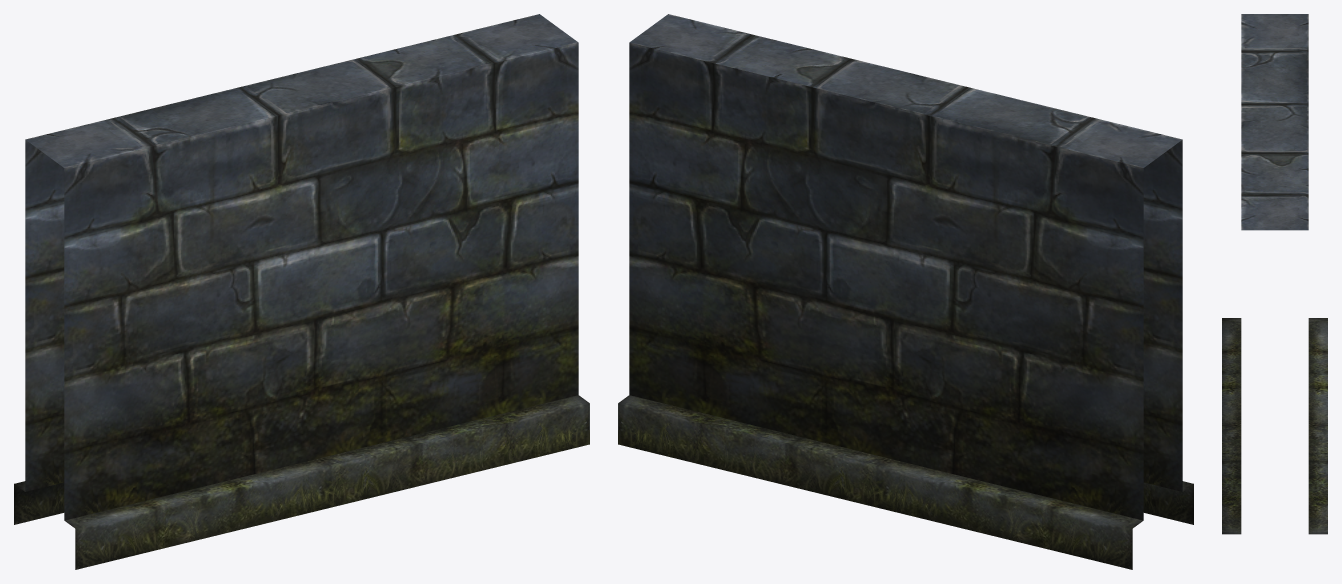
The model's file is C_qiang001.fbx.
The picture shows the model from 3 angles, left to right: view 1: azimuth 30°, elevation 25°; view 2: azimuth 150°, elevation 25°; view 3: azimuth 270°, elevation 25°; orthographic projection. The views are drawn at different scales.
Parts seen in each view (by area): view 1: C_qiang001; view 2: C_qiang001; view 3: C_qiang001.
Boxes of the visible parts, bbox=[...] form: C_qiang001: bbox=[14, 14, 589, 569]; C_qiang001: bbox=[618, 14, 1193, 569]; C_qiang001: bbox=[1222, 14, 1327, 534].
Size of the model in its own units: 361 by 264 by 74.74.
